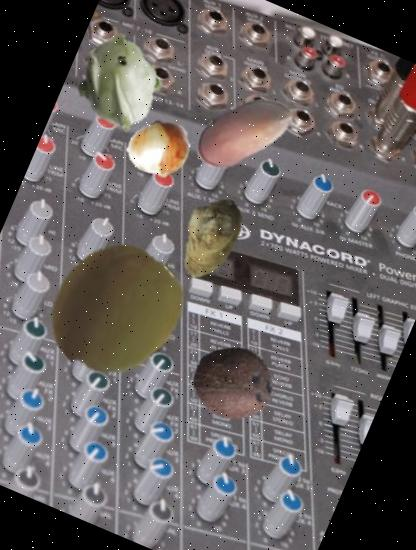Cocos: (178, 328, 288, 438)
Ginger: (153, 182, 266, 295)
Hazelnut: (174, 63, 313, 202)
Kohlrabi: (53, 17, 187, 150)
Onion: (116, 107, 200, 191)
Peach: (26, 222, 202, 399)
